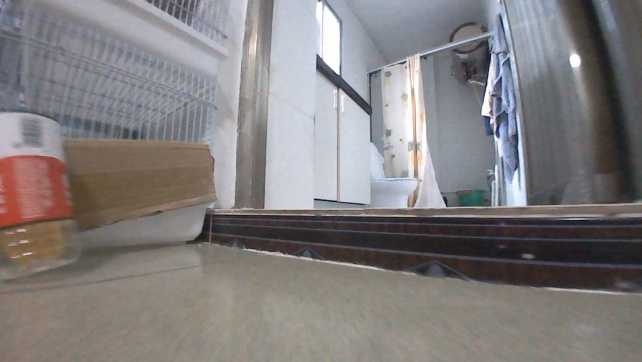door_sill: (208, 202, 640, 286)
toilet: (371, 177, 416, 206)
